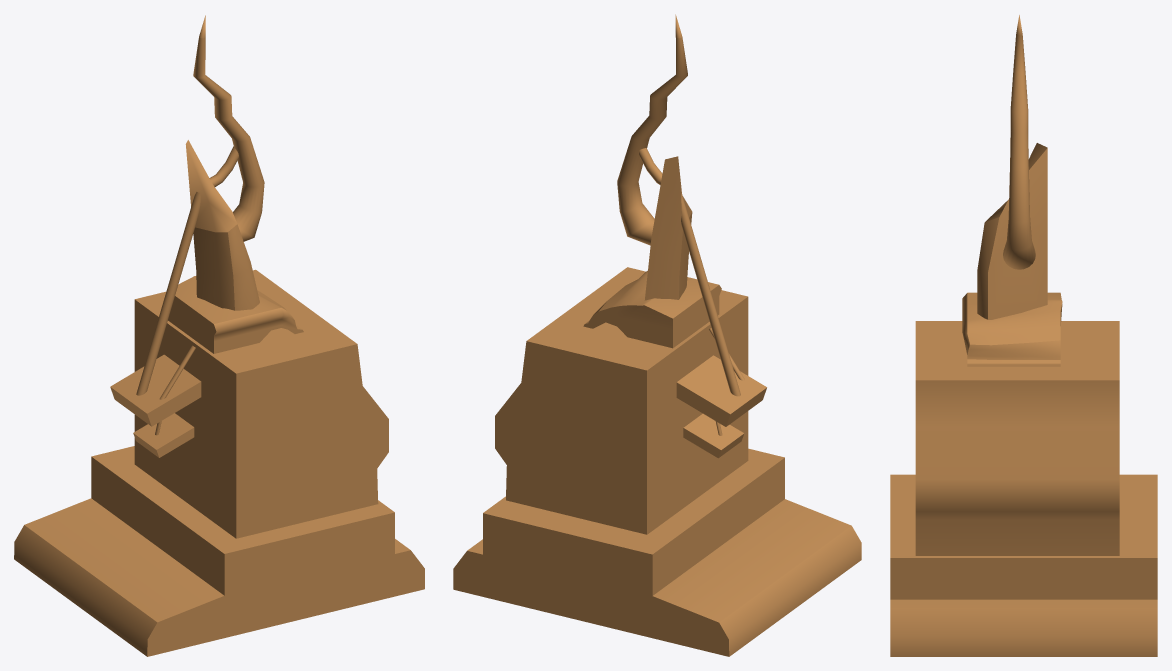
The model's file is statue.fbx.
3 renders of one model, left to right at view 1: azimuth 30°, elevation 25°; view 2: azimuth 150°, elevation 25°; view 3: azimuth 270°, elevation 25°, orthographic.
Visible parts, largest first — view 1: pCube1, pasted__pCube4, pCube4, pCube2, pCube3, pCylinder1, pCube5, pCylinder3, pasted__pCube5; view 2: pCube1, pasted__pCube4, pCube4, pCube3, pCube2, pCylinder1, pCube5, pCylinder3, pasted__pCube5; view 3: pCube1, pCube4, pasted__pCube4, pCube2, pCube3, pCylinder1.
Part boxes in pixels (x1,y1,x2,y2): pCube1: [134, 269, 388, 538]; pasted__pCube4: [14, 498, 424, 656]; pCube4: [91, 446, 394, 596]; pCube2: [185, 140, 259, 310]; pCube3: [168, 276, 303, 353]; pCylinder1: [193, 15, 264, 241]; pCube5: [110, 354, 201, 426]; pCylinder3: [136, 191, 200, 395]; pasted__pCube5: [133, 413, 194, 457]; pCube1: [495, 267, 748, 534]; pasted__pCube4: [453, 499, 861, 656]; pCube4: [483, 448, 784, 596]; pCube3: [583, 270, 721, 348]; pCube2: [644, 156, 692, 300]; pCylinder1: [617, 14, 687, 245]; pCube5: [676, 355, 766, 426]; pCylinder3: [681, 192, 740, 396]; pasted__pCube5: [683, 413, 744, 458]; pCube1: [915, 321, 1119, 555]; pCube4: [890, 474, 1157, 599]; pasted__pCube4: [890, 599, 1157, 656]; pCube2: [977, 143, 1047, 319]; pCube3: [962, 292, 1062, 366]; pCylinder1: [1003, 15, 1035, 269].
Size of the model in its own units: 7.28 by 14.19 by 6.06.
